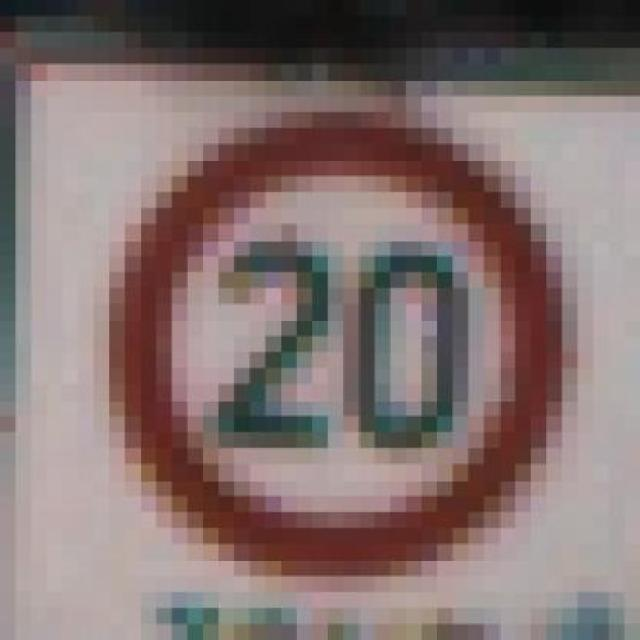forb_speed_over_20: (117, 115, 552, 571)
